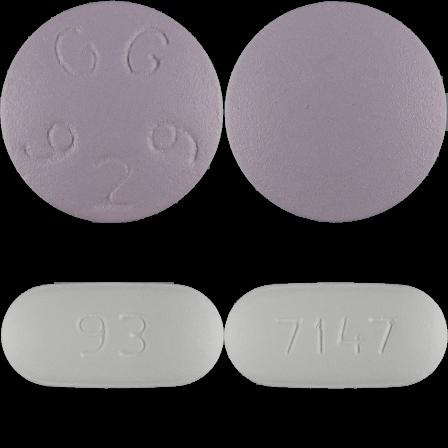0179-0025: (0, 0, 224, 224)
